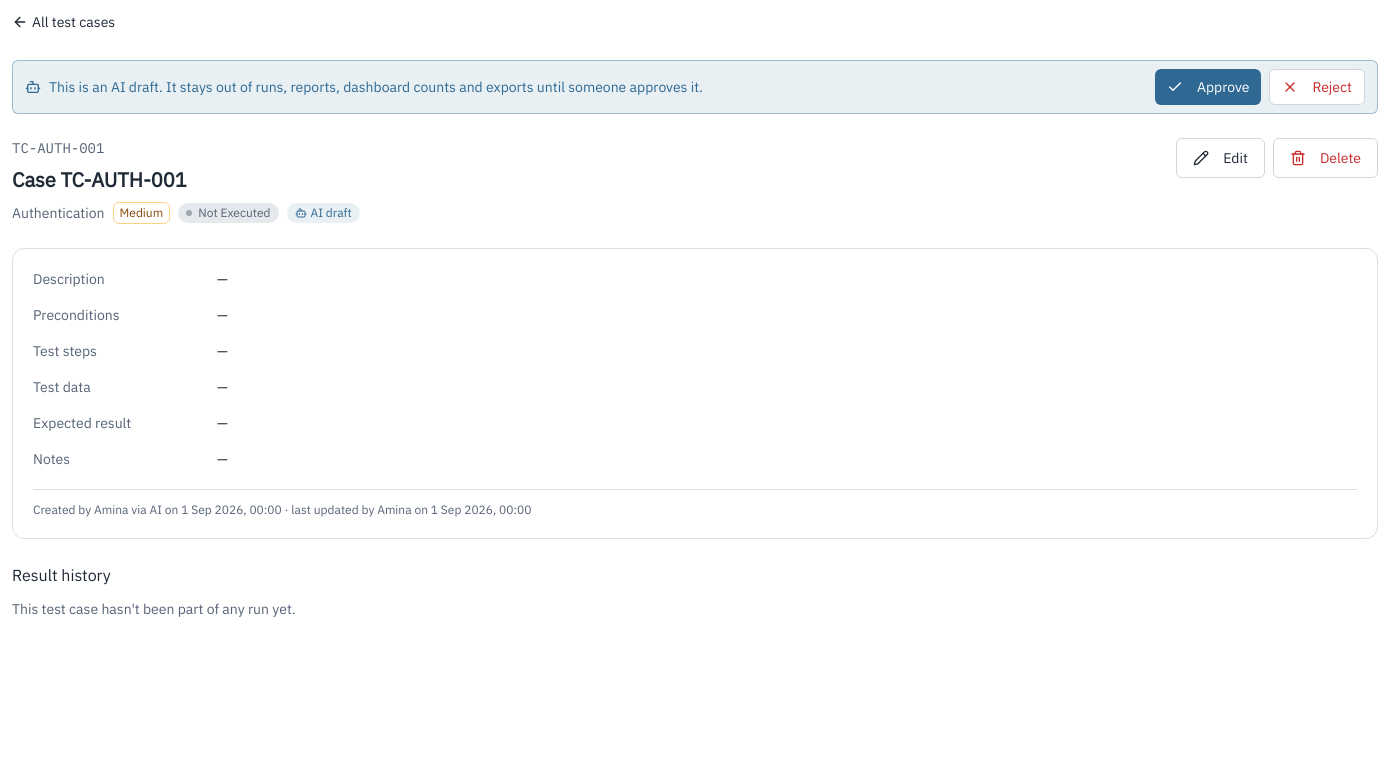
Test: CaseDetailPage — AI drafts and suggestions › approves the draft from its banner
This screenshot has width=1390, height=780.
Check: the text "This is an AI draft" is shown, box [49,78,703,96]
Click the button "Approve": (1208, 87) [1155,69,1261,105]
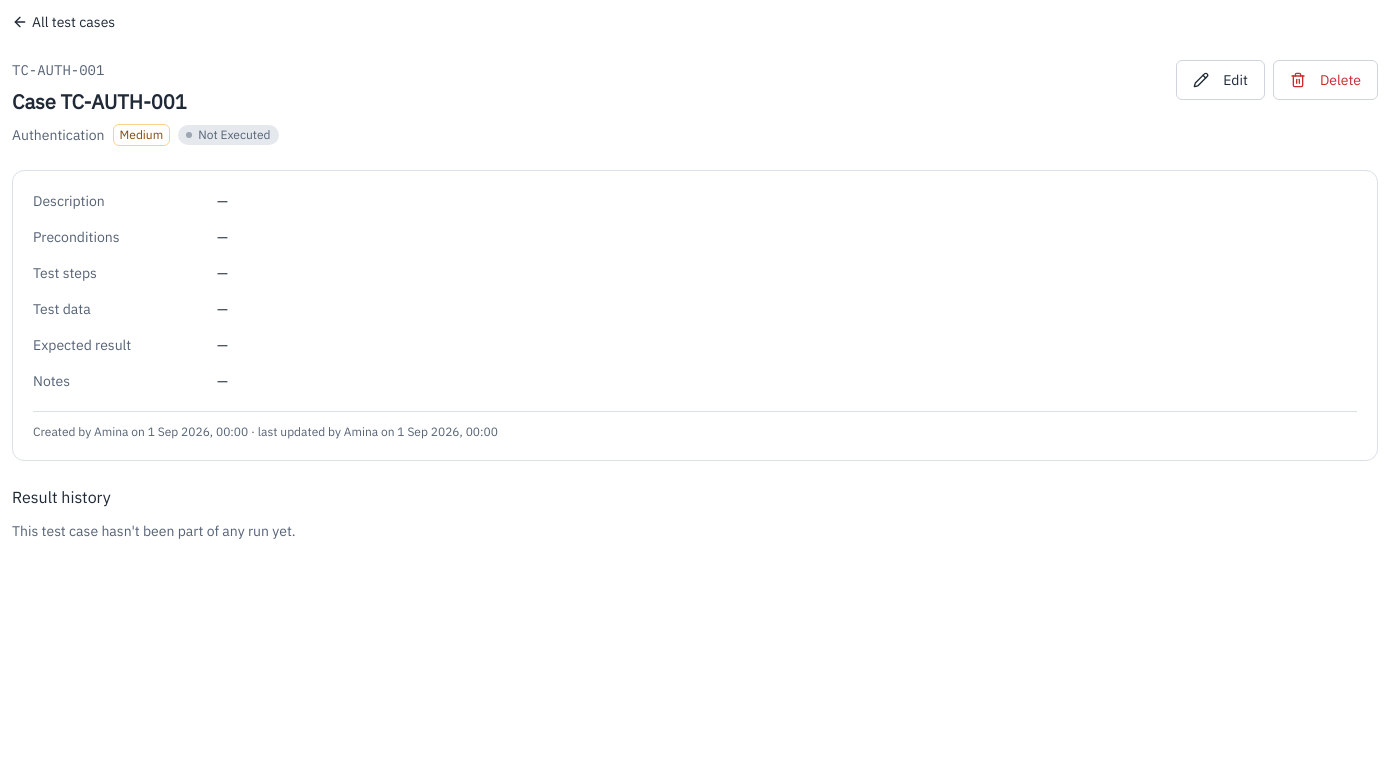
Check: the text "This is an AI draft" is gone
